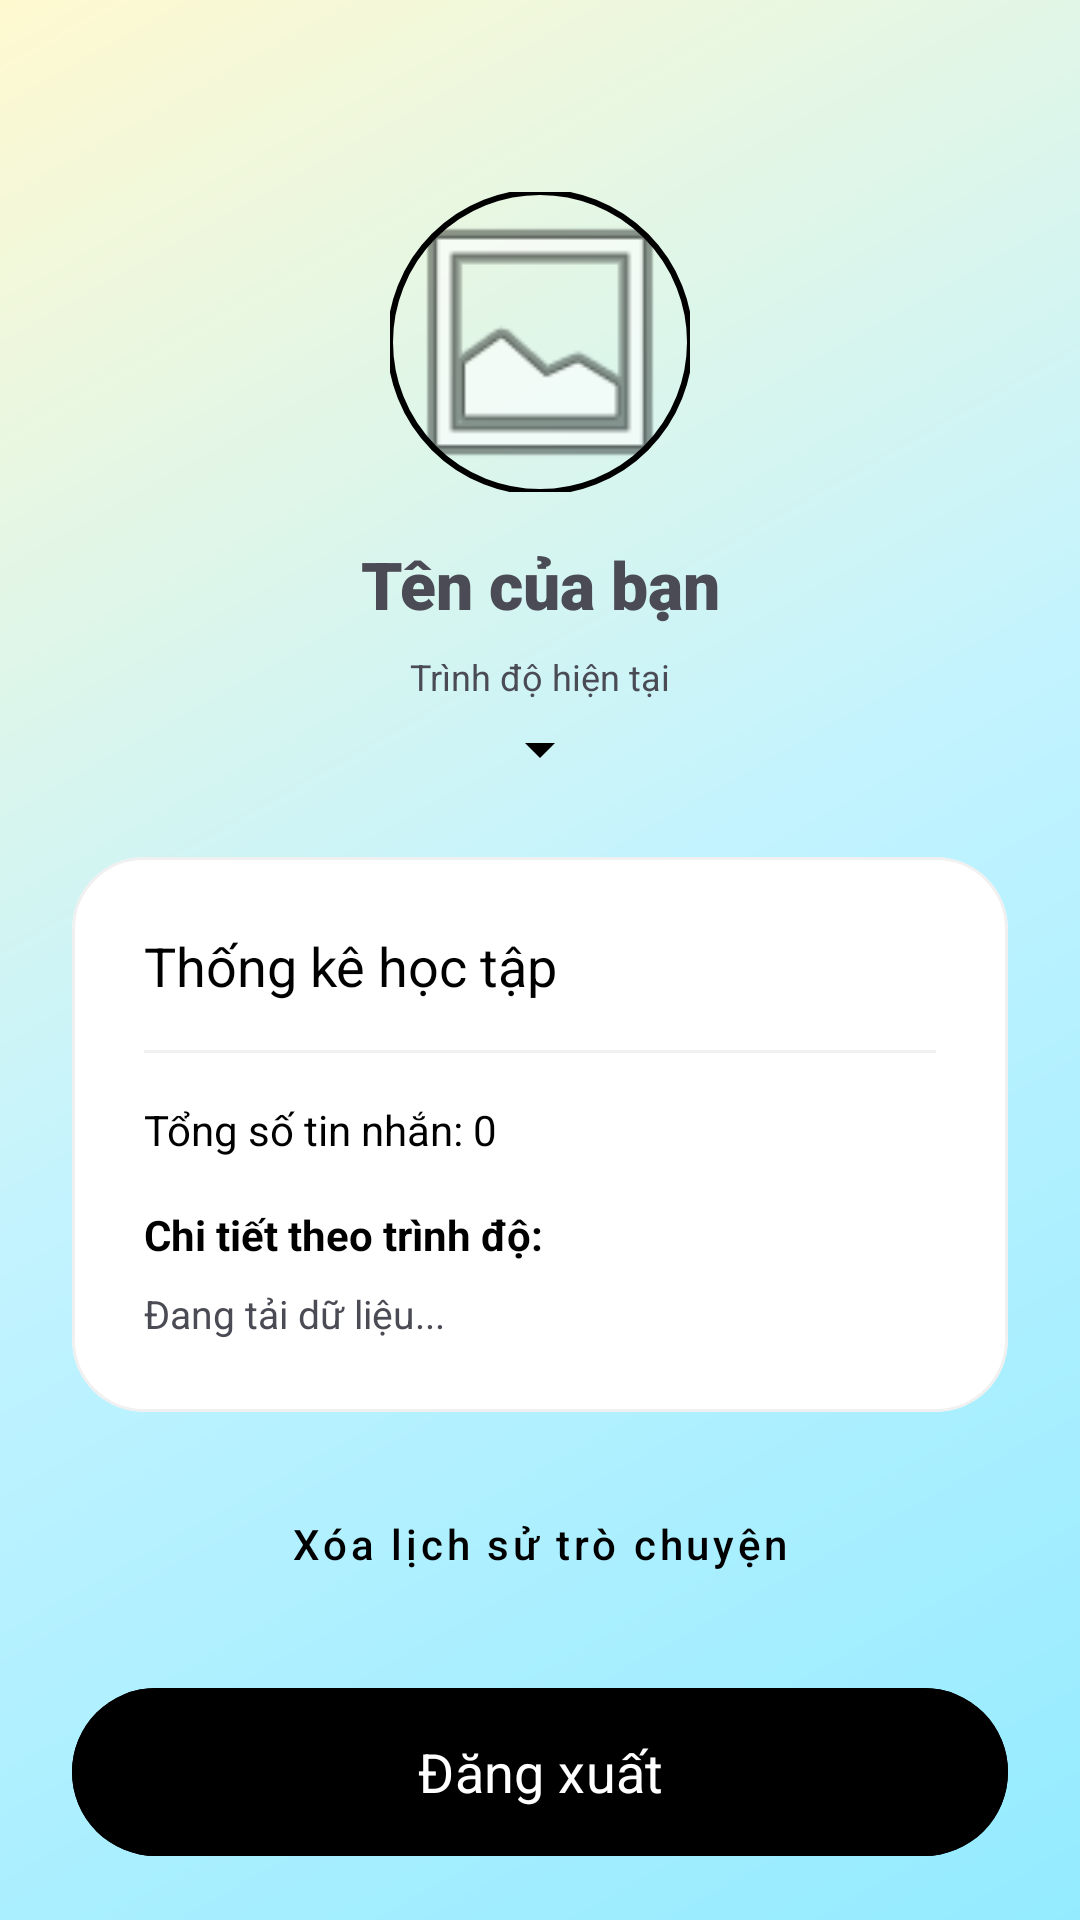

Where to tap for icons on this 1080×1920 app screen, as [x,y]:
gallery: [540,342]
